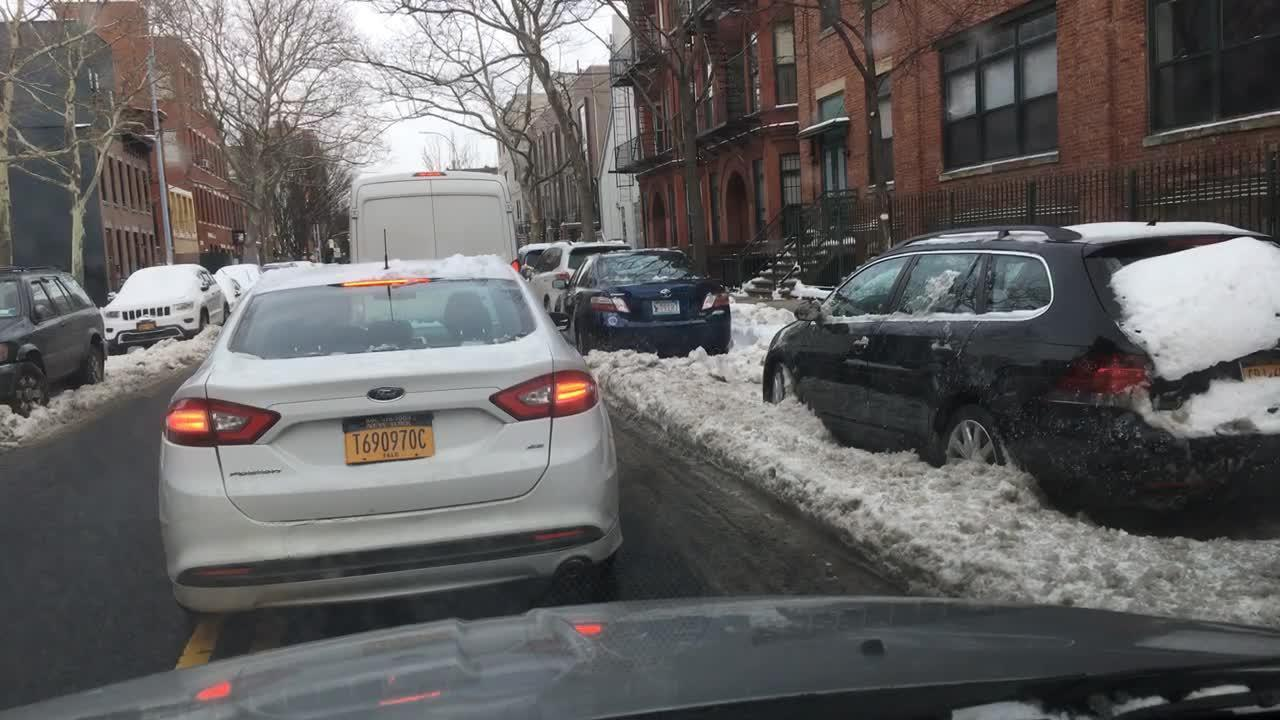Toyota: (657, 286, 675, 299)
ford: (362, 382, 415, 407)
